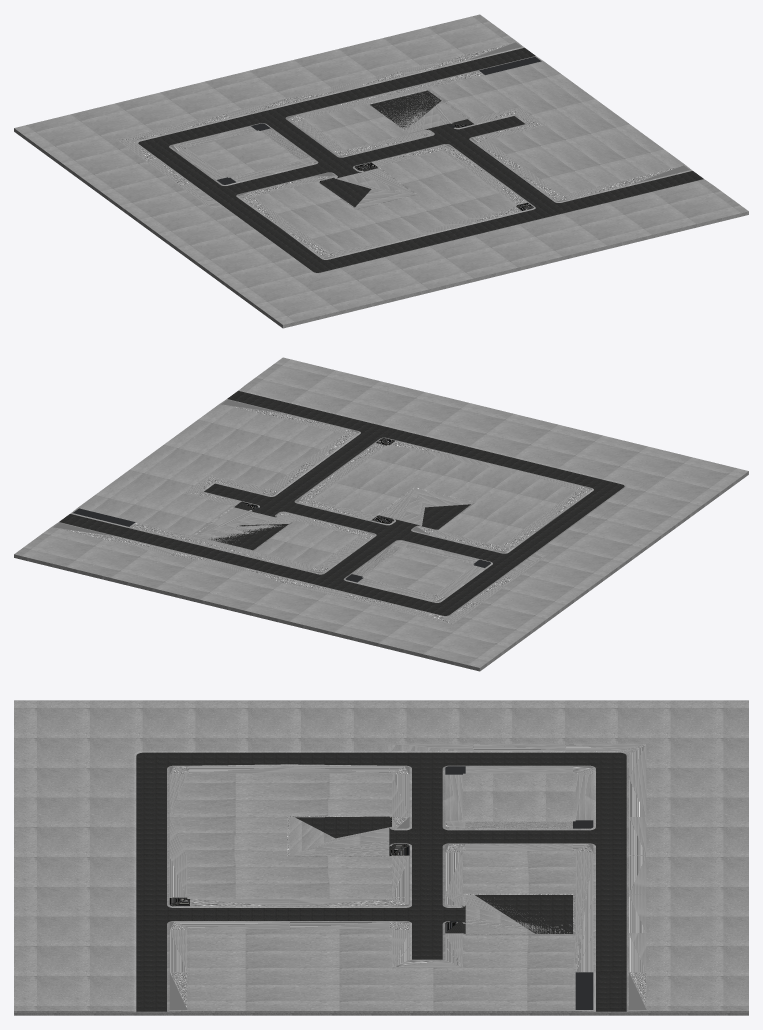
The model's file is floorHitbox.fbx.
The picture shows the model from 3 angles, top to bottom: view 1: azimuth 30°, elevation 25°; view 2: azimuth 150°, elevation 25°; view 3: azimuth 270°, elevation 25°; orthographic projection. The views are drawn at different scales.
Parts seen in each view (by area): view 1: Cube; view 2: Cube; view 3: Cube.
Boxes of the visible parts, box(x1,y1,x2,y2) form: Cube: box(14, 14, 748, 328); Cube: box(14, 357, 748, 671); Cube: box(14, 700, 748, 1015).
Bounding box in the file's own units: 2831 × 23.03 × 2831.
